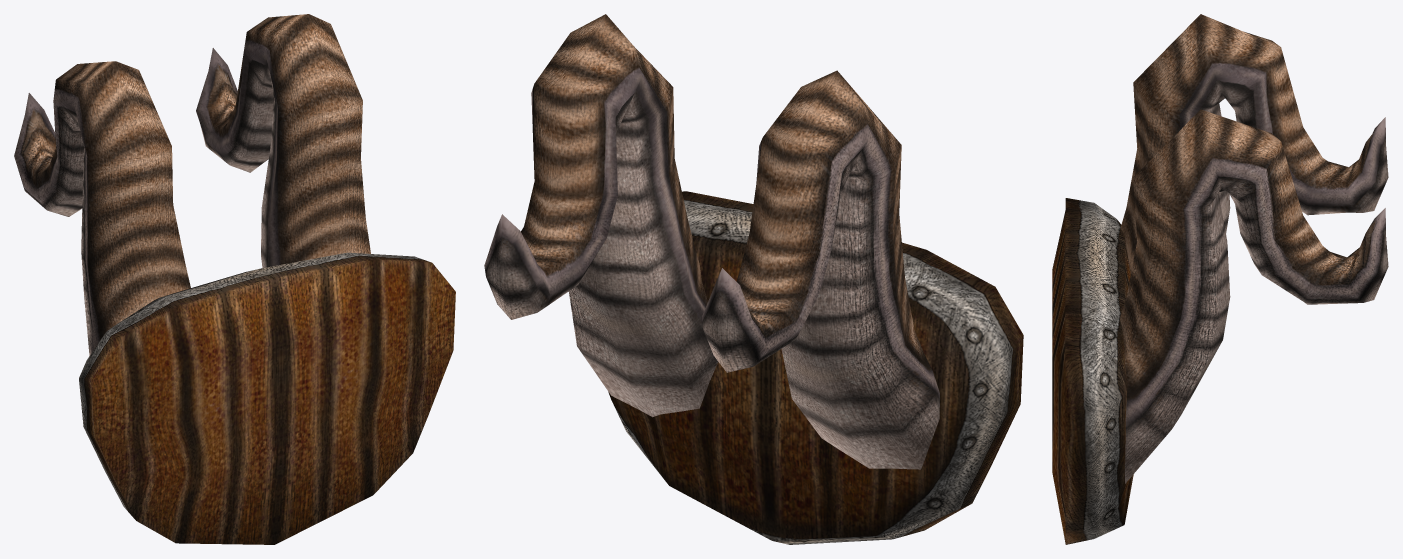
The model's file is BACK_RAM_HORNS.fbx.
3 renders of one model, left to right at view 1: azimuth 30°, elevation 25°; view 2: azimuth 150°, elevation 25°; view 3: azimuth 270°, elevation 25°, orthographic. The views are drawn at different scales.
Visible parts, largest first — view 1: BACK_RAM_HORNS; view 2: BACK_RAM_HORNS; view 3: BACK_RAM_HORNS.
Boxes of the visible parts, x1,y1,x2,y2 form: BACK_RAM_HORNS: (14, 14, 455, 544); BACK_RAM_HORNS: (484, 14, 1023, 544); BACK_RAM_HORNS: (1052, 14, 1388, 544).
Size of the model in its own units: 0.0348 by 0.0419 by 0.0276.
